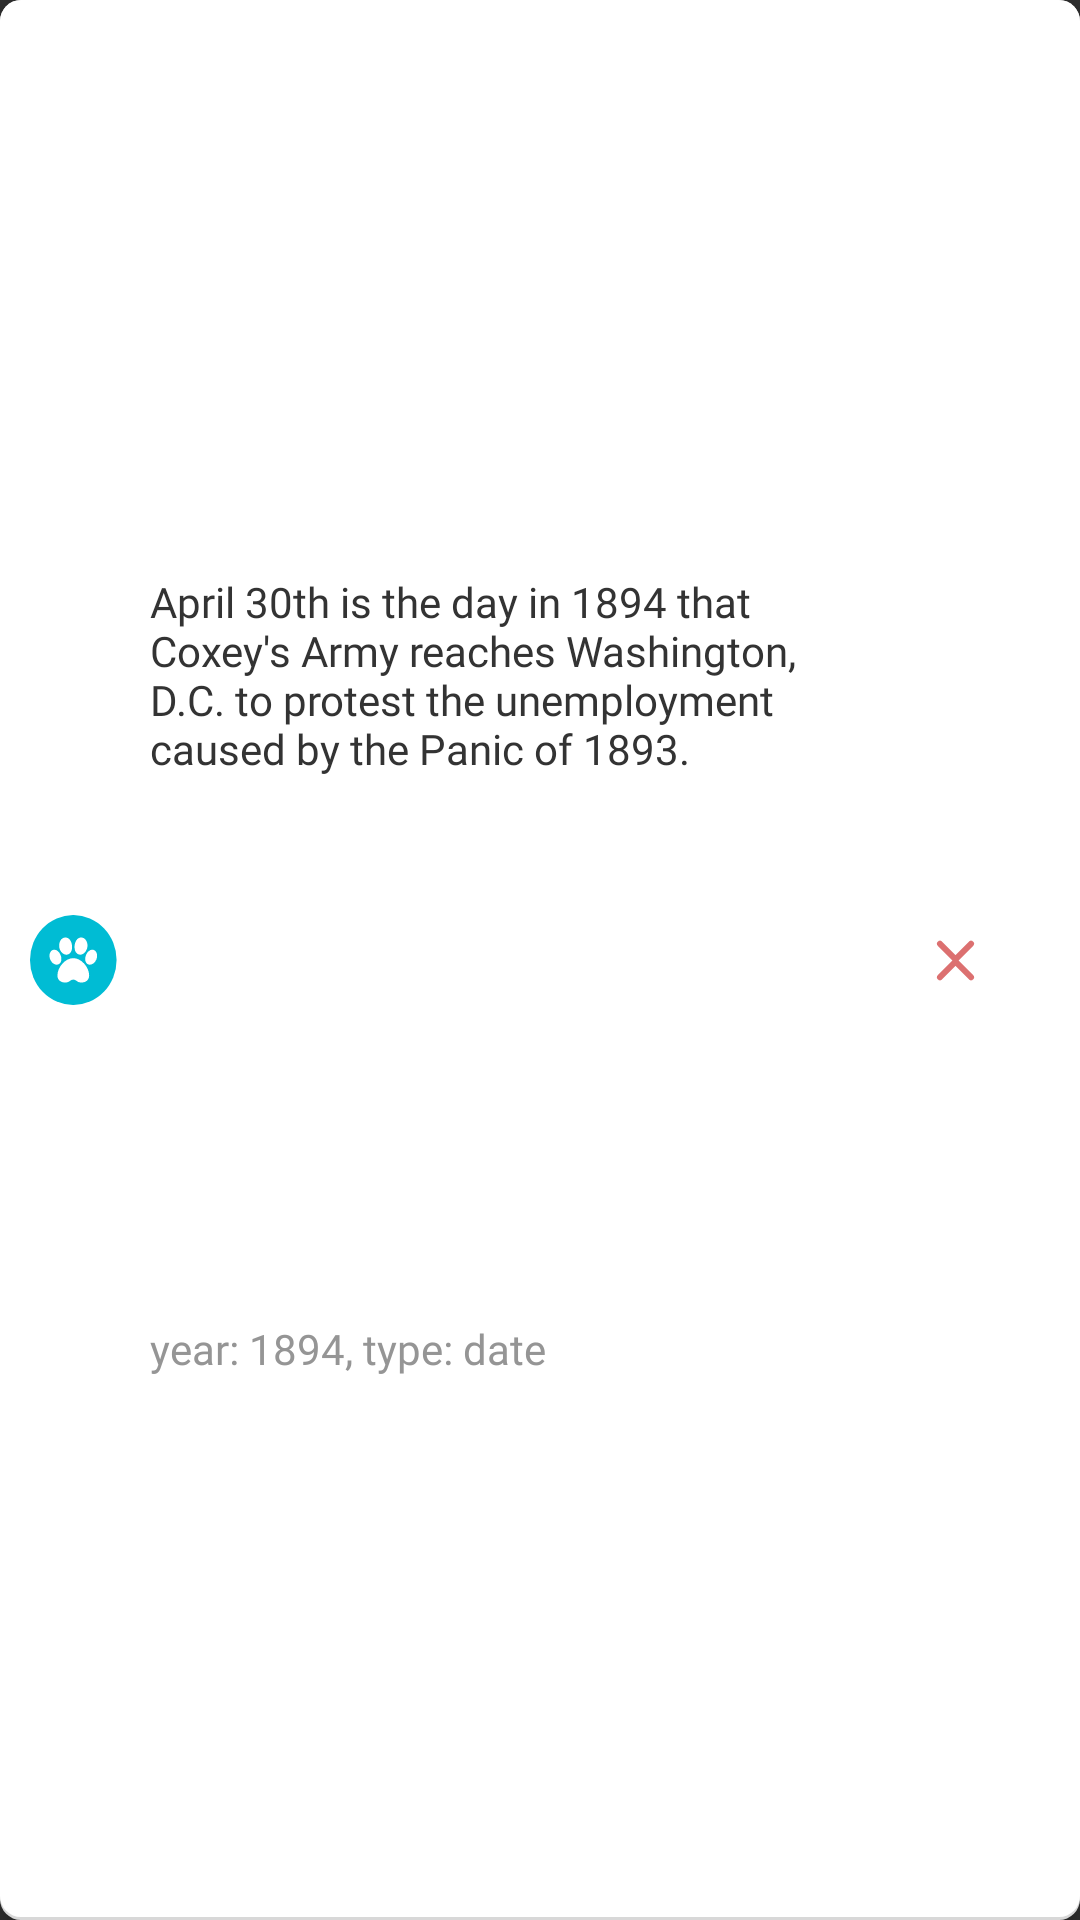

Icon bounding boxes for this 1080px×1920px phone screenshot, format box(x1, y1, x2, y2):
remove: box(937, 940, 974, 981)
